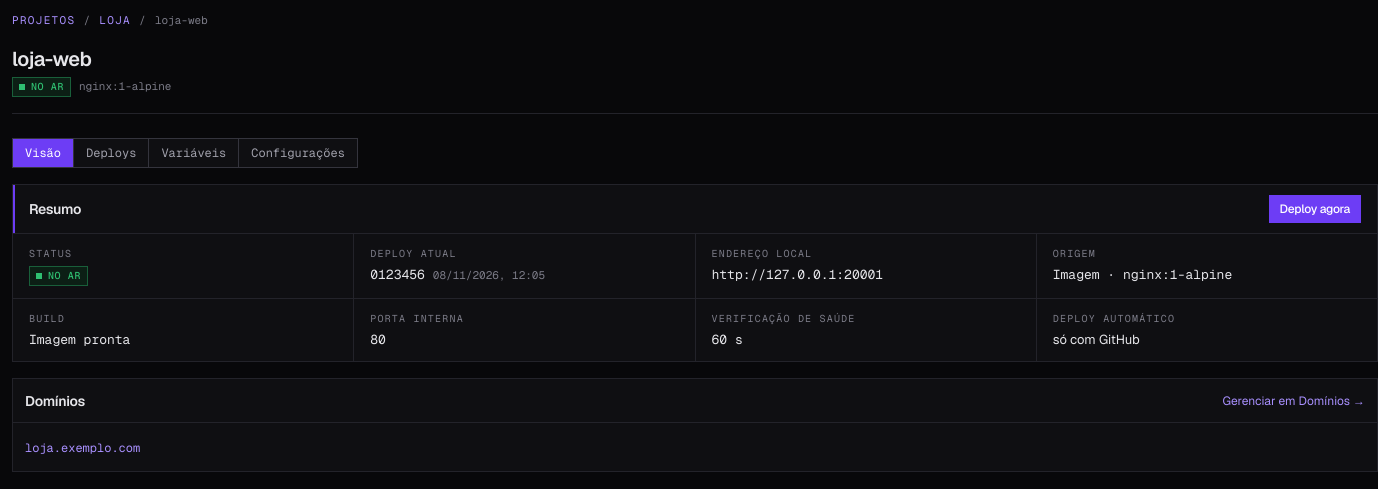
Test case: Aplicação › visão mostra status, commit, endereço e deploy agora leva à aba de deploys
Expected: the heading "loja-web" is shown, [12, 46, 91, 72]
Expected: the text "No ar" is shown, [12, 76, 71, 96]
Click the button "Deploy agora" at [1315, 208], box [1269, 194, 1361, 222]
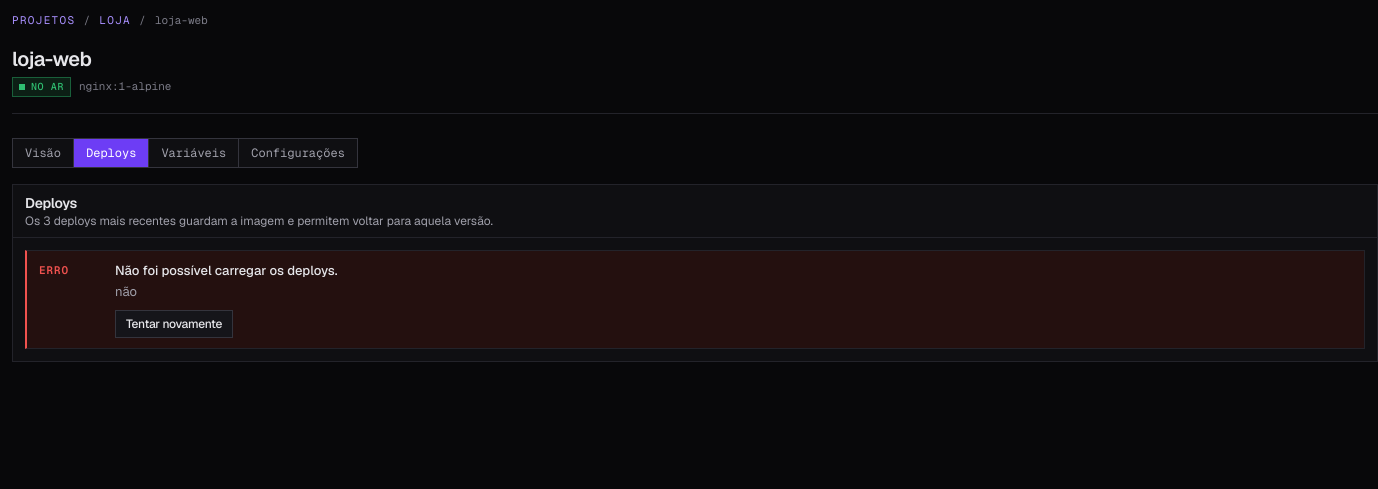
Result: the heading "Deploys" is shown at [25, 194, 77, 212]
